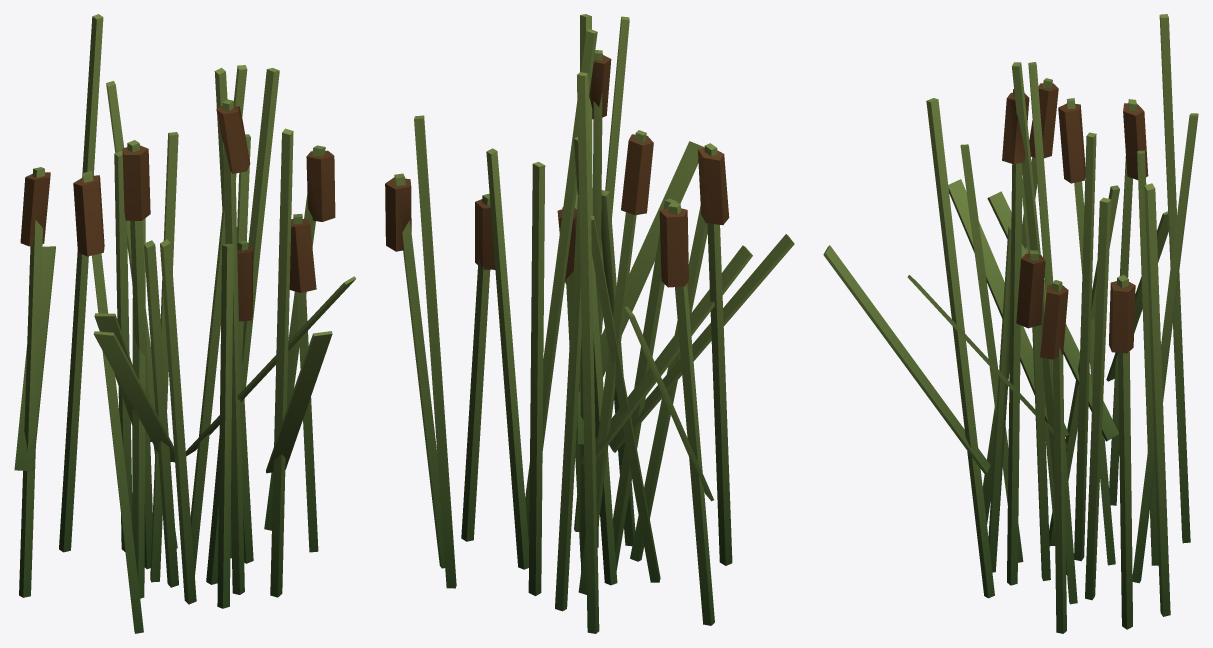
Rendered from trzcina_2.glb.
3 renders of one model, left to right at view 1: azimuth 30°, elevation 25°; view 2: azimuth 150°, elevation 25°; view 3: azimuth 270°, elevation 25°, orthographic.
Visible parts, largest first — view 1: trzcina_2; view 2: trzcina_2; view 3: trzcina_2.
Boxes of the visible parts, box(x1,y1,x2,y2) form: trzcina_2: box(14, 14, 356, 633); trzcina_2: box(385, 14, 794, 633); trzcina_2: box(823, 14, 1198, 633).
Size of the model in its own units: 0.9923 by 1.6 by 1.01.
